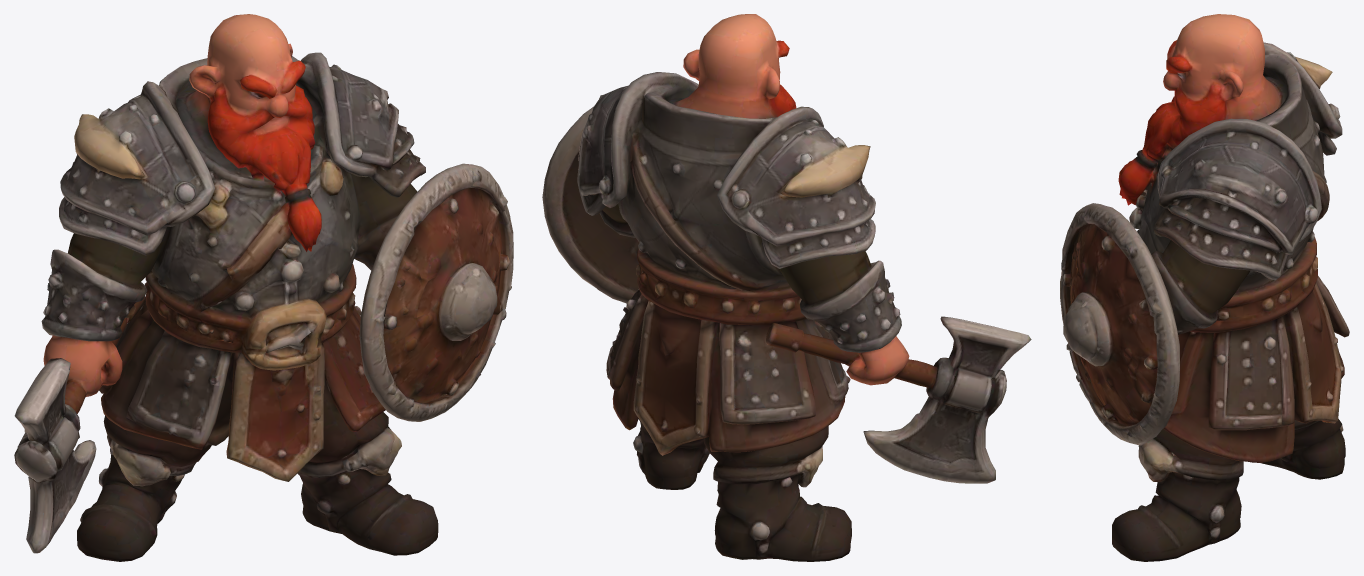
Rendered from dwarf.glb.
The picture shows the model from 3 angles, left to right: view 1: azimuth 30°, elevation 25°; view 2: azimuth 150°, elevation 25°; view 3: azimuth 270°, elevation 25°; orthographic projection. The views are drawn at different scales.
Parts seen in each view (by area): view 1: tripo_node_d49adc08-7fed-48e5-a181-210d87365060; view 2: tripo_node_d49adc08-7fed-48e5-a181-210d87365060; view 3: tripo_node_d49adc08-7fed-48e5-a181-210d87365060.
Part boxes in pixels (x1,y1,x2,y2): tripo_node_d49adc08-7fed-48e5-a181-210d87365060: (14,14,513,561); tripo_node_d49adc08-7fed-48e5-a181-210d87365060: (542,14,1031,561); tripo_node_d49adc08-7fed-48e5-a181-210d87365060: (1060,14,1349,561).
Bounding box in the file's own units: 0.9777 × 0.9586 × 0.5224.
Materials: 1 (1 with a texture image).
